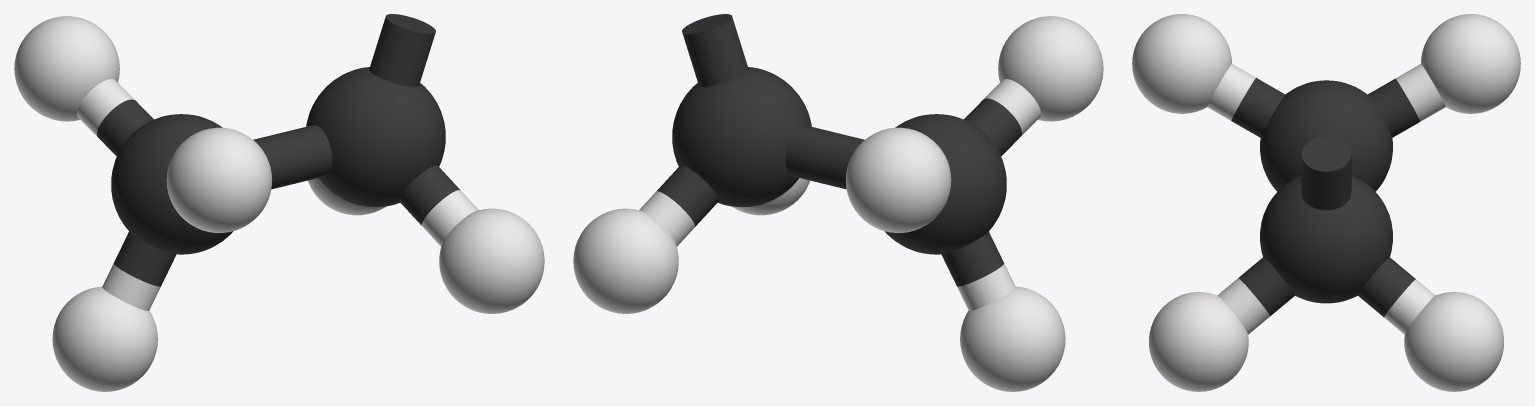
File: ycdjo.gltf
3 renders of one model, left to right at view 1: azimuth 30°, elevation 25°; view 2: azimuth 150°, elevation 25°; view 3: azimuth 270°, elevation 25°, orthographic. The views are drawn at different scales.
Visible parts, largest first — view 1: 对象004; view 2: 对象004; view 3: 对象004.
Boxes of the visible parts, box(x1,y1,x2,y2) form: 对象004: box(14, 14, 544, 391); 对象004: box(573, 14, 1103, 391); 对象004: box(1132, 14, 1520, 391).
Size of the model in its own units: 26.96 by 18.88 by 23.32.
Materials: 2 (2 with a texture image).
